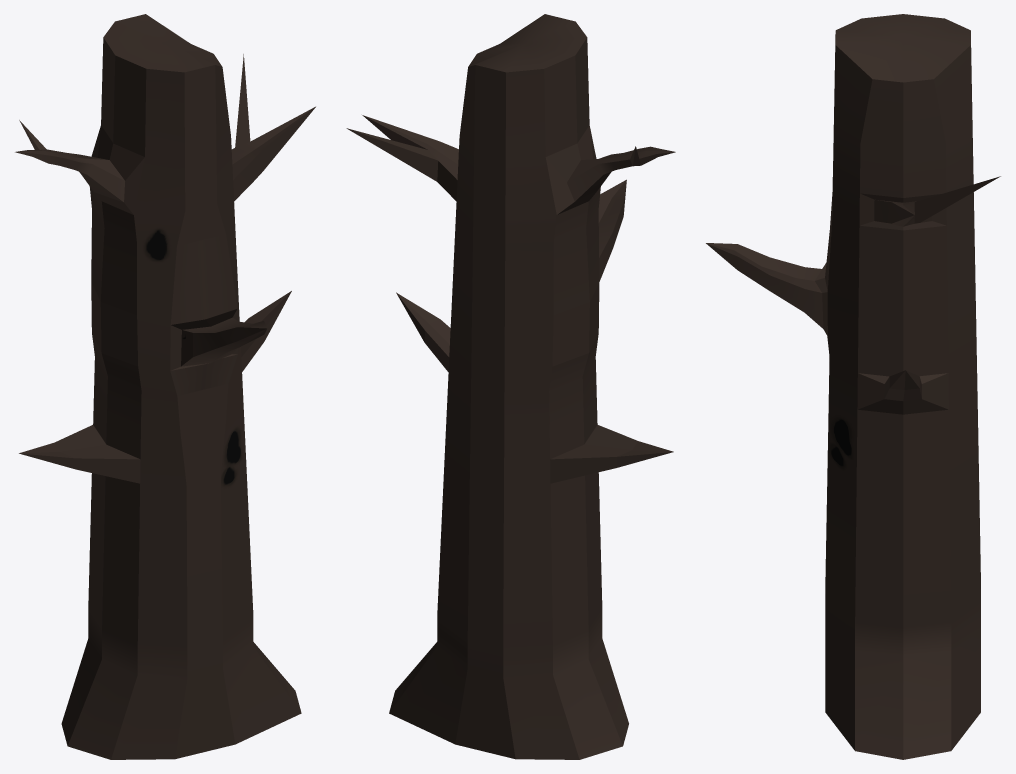
Rendered from Tree_Dead_Platforms'.fbx.
The picture shows the model from 3 angles, left to right: view 1: azimuth 30°, elevation 25°; view 2: azimuth 150°, elevation 25°; view 3: azimuth 270°, elevation 25°; orthographic projection. The views are drawn at different scales.
Parts seen in each view (by area): view 1: polySurface1; view 2: polySurface1; view 3: polySurface1.
Boxes of the visible parts, x1,y1,x2,y2 form: polySurface1: [15, 14, 315, 759]; polySurface1: [346, 14, 675, 759]; polySurface1: [706, 14, 1000, 759].
Bounding box in the file's own units: 0.9965 × 2.1 × 0.8526.
